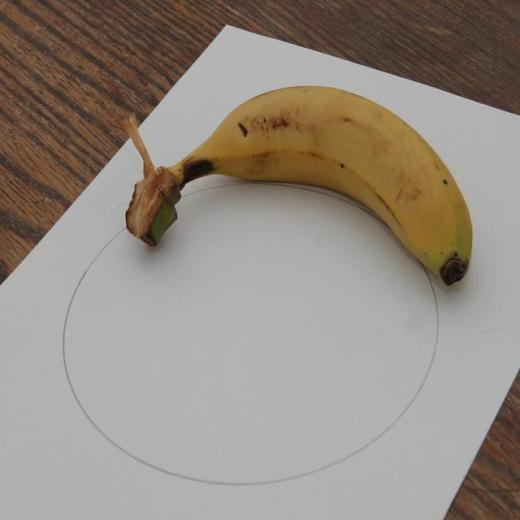Banana: (108, 82, 477, 290)
